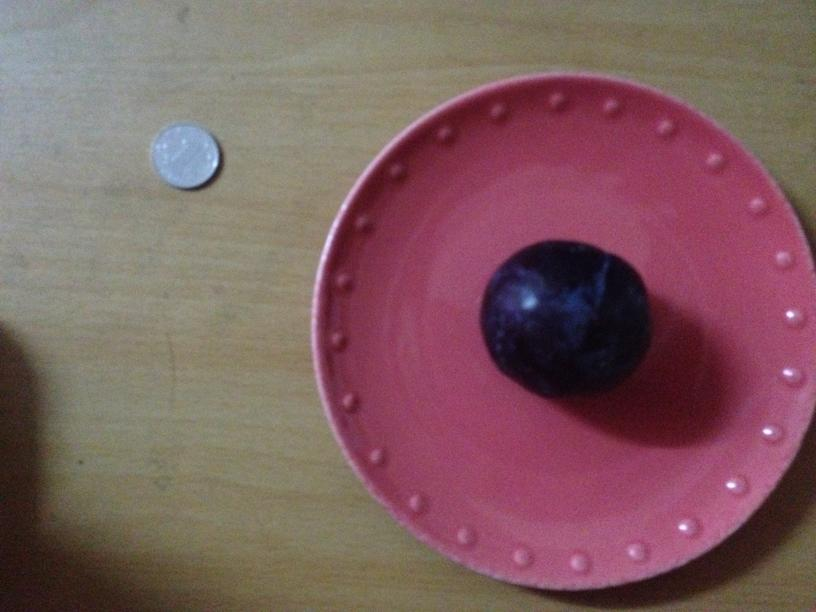coin: (146, 120, 222, 192)
plum: (472, 238, 651, 392)
